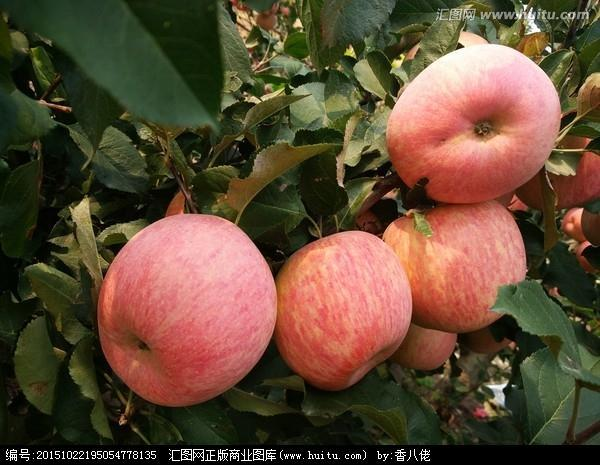apple: (97, 213, 278, 408), (385, 44, 562, 205), (273, 231, 412, 392), (377, 201, 525, 343)
